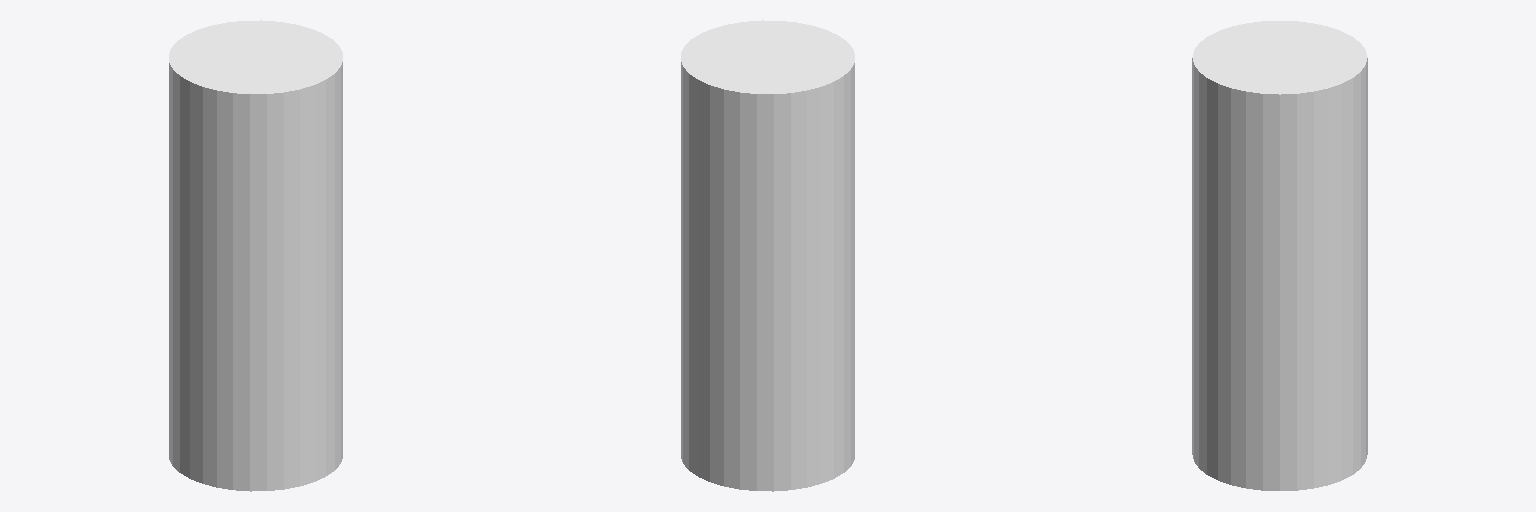
The robot description file, URDF, robot "target":
<?xml version="1.0" ?>
<!-- =================================================================================== -->
<!-- |    This document was autogenerated by xacro from target_cylinderS.xacro         | -->
<!-- |    EDITING THIS FILE BY HAND IS NOT RECOMMENDED                                 | -->
<!-- =================================================================================== -->
<robot name="target" xmlns:xacro="http://www.ros.org/wiki/xacro">
  <link name="target">
    <contact>
      <lateral_friction value="1"/>
    </contact>
    <inertial>
      <origin rpy="0 0 0" xyz="0 0 0"/>
      <mass value="0.5"/>
      <inertia ixx="0.000466666666667" ixy="0" ixz="0" iyy="0.000466666666667" iyz="0" izz="0.0001"/>
    </inertial>
    <visual>
      <origin rpy="0 0 0" xyz="0 0 0"/>
      <geometry>
        <cylinder length="0.1" radius="0.02"/>
      </geometry>
      <material name="white">
        <color rgba="1 1 1 1"/>
      </material>
    </visual>
    <collision>
      <origin rpy="0 0 0" xyz="0 0 0"/>
      <geometry>
        <cylinder length="0.1" radius="0.02"/>
      </geometry>
    </collision>
  </link>
</robot>

--- Render facts (derived) ---
Views: 3 orthographic renders of the robot side by side, from view 1: azimuth 30°, elevation 25°; view 2: azimuth 150°, elevation 25°; view 3: azimuth 270°, elevation 25°.
Model target with 1 links and 0 joints (none), rooted at target, posed every joint at zero.
Links seen in each view (by area): view 1: target; view 2: target; view 3: target.
Boxes of the visible links, x1,y1,x2,y2 form: target: (169,20,342,491); target: (681,20,854,491); target: (1192,21,1367,490).
Size in the robot's own frame: 0.04 by 0.04 by 0.1 metres.
Geometry: primitives only (box / cylinder / sphere), no mesh files.